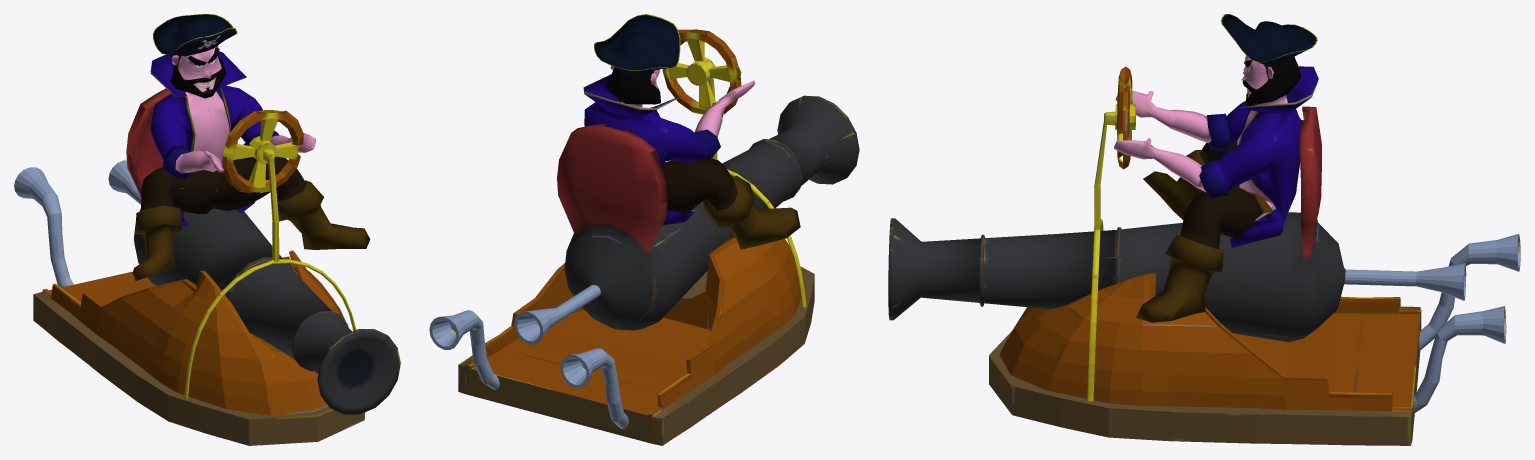
The model's file is pirataGiroDER_000239.obj.
The picture shows the model from 3 angles, left to right: view 1: azimuth 30°, elevation 25°; view 2: azimuth 150°, elevation 25°; view 3: azimuth 270°, elevation 25°; orthographic projection. The views are drawn at different scales.
Visible parts, largest first — view 1: carro_pirata, Pirata_PirataH; view 2: carro_pirata, Pirata_PirataH; view 3: carro_pirata, Pirata_PirataH.
Part boxes in pixels (<box>): carro_pirata: <box>14,88,400,445</box>; Pirata_PirataH: <box>132,14,370,280</box>; carro_pirata: <box>429,29,859,445</box>; Pirata_PirataH: <box>583,14,800,249</box>; carro_pirata: <box>888,66,1520,445</box>; Pirata_PirataH: <box>1114,14,1318,322</box>.
Size of the model in its own units: 5.66 by 7.73 by 12.1.
2 materials, 2 textured.
